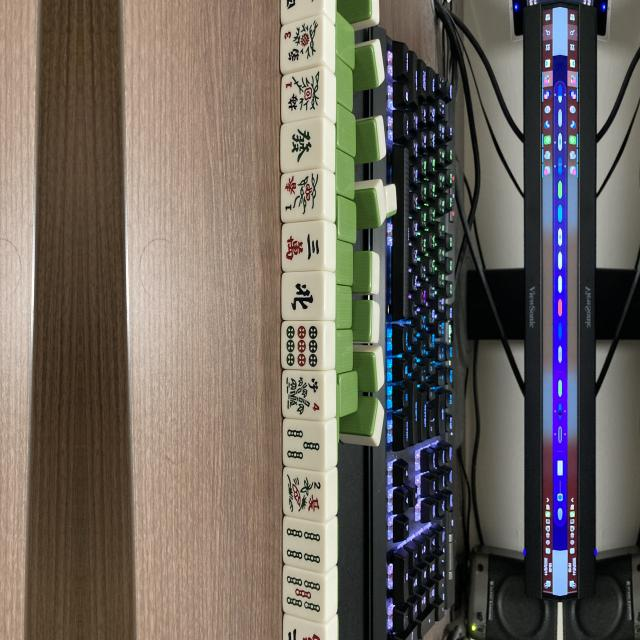f1: (282, 70, 322, 122)
f3: (284, 18, 322, 72)
f4: (281, 370, 324, 420)
fa: (284, 120, 323, 172)
ff1: (281, 168, 321, 220)
ff2: (284, 470, 323, 519)
m2: (283, 621, 326, 640)
m3: (284, 224, 324, 272)
m4: (282, 0, 322, 20)
north: (284, 272, 325, 319)
s3: (282, 424, 322, 470)
s4: (284, 522, 326, 570)
s5: (285, 572, 326, 619)
t9: (282, 323, 322, 372)
